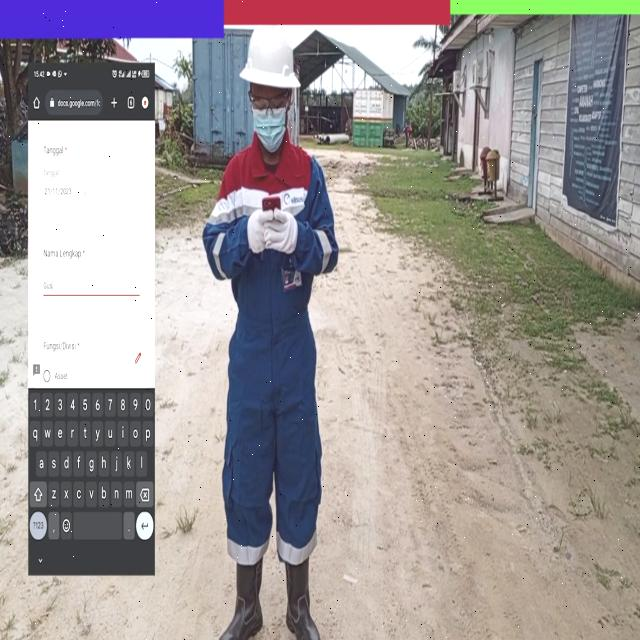Gloves: (264, 206, 296, 253), (250, 205, 274, 255)
Hardhat: (238, 30, 301, 97)
Mask: (253, 108, 287, 154)
Overall Suit: (202, 151, 340, 565)
Safety Boots: (222, 564, 262, 640), (287, 565, 321, 640)
